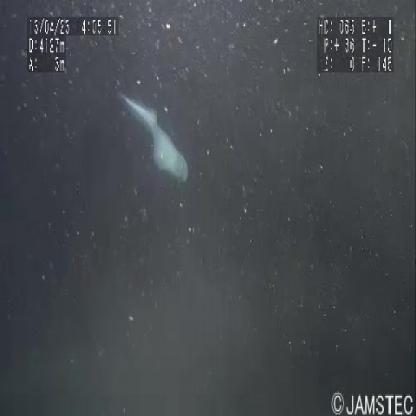Bio: (114, 83, 191, 185)
